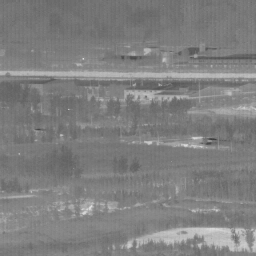aircraft: (68, 108, 70, 110)
